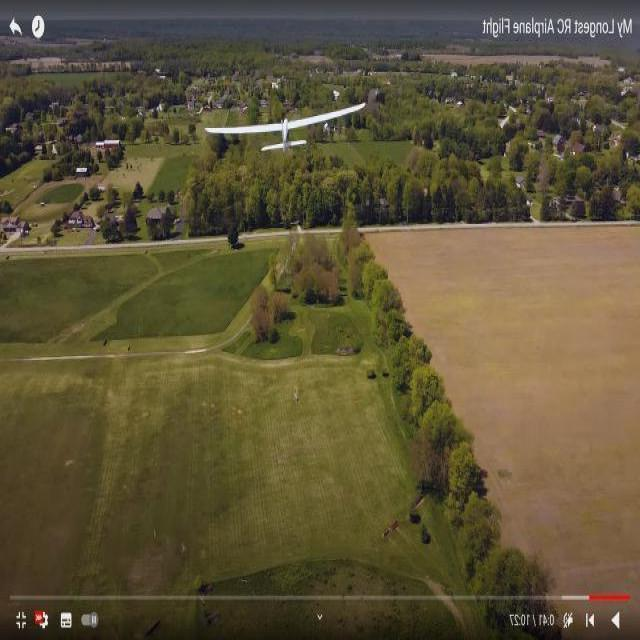iha: (116, 72, 374, 218)
